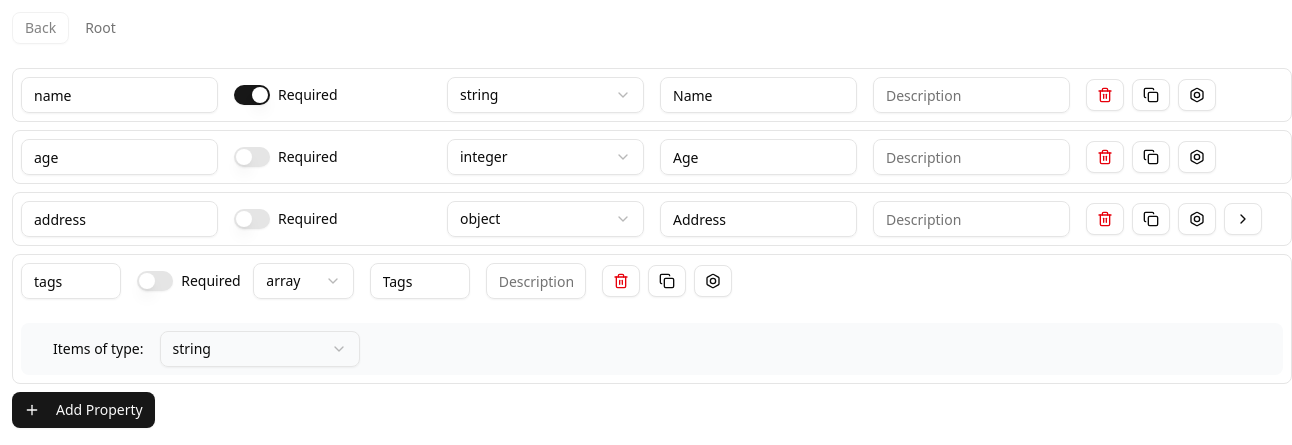
Scenario: SchemaBuilder › Navigation › navigates back using the back button
Click the button named "navigate" at (1243, 219), box left=1224, top=203, right=1262, bottom=235
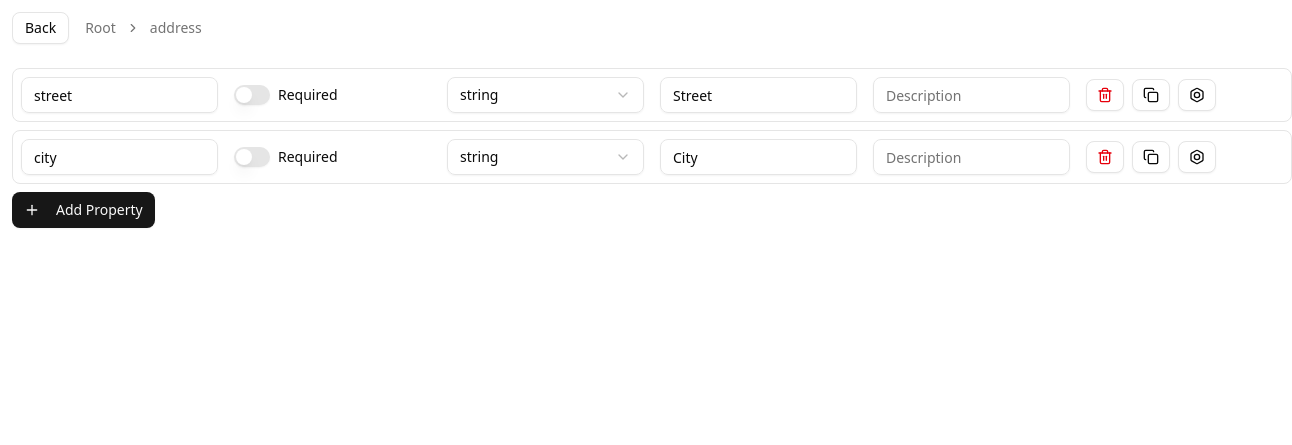
Expected: the field showing "street" is shown, left=21, top=77, right=218, bottom=113
# Click back button
Click the button "Back" at (41, 28), box left=12, top=12, right=69, bottom=44
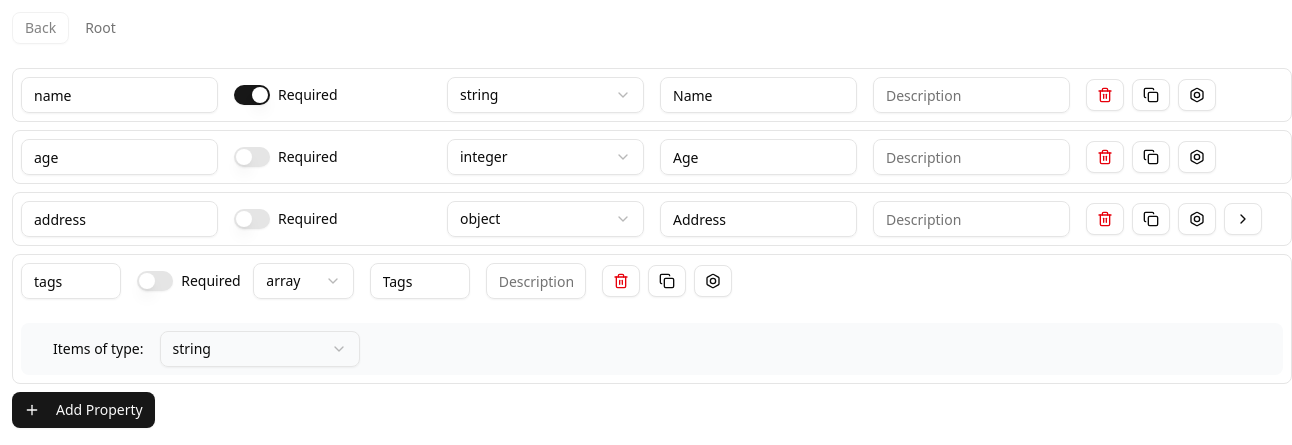
Expected: the field showing "street" is not shown
Expected: the field showing "name" is shown, left=21, top=77, right=218, bottom=113
